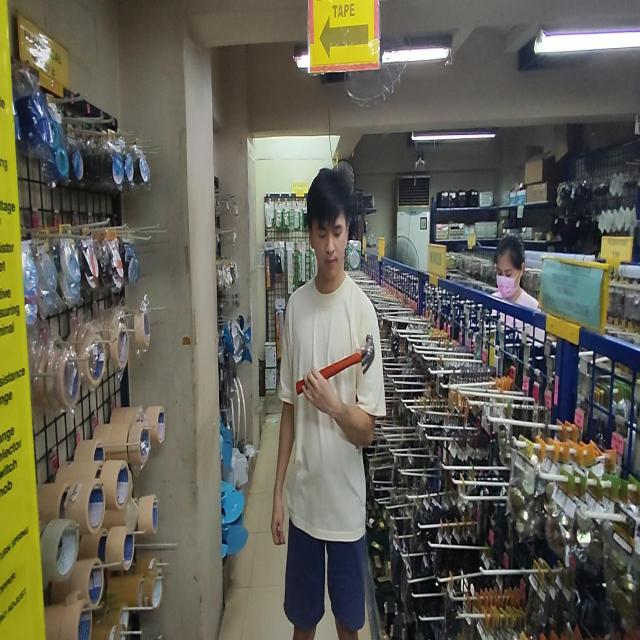hammer: (296, 332, 374, 394)
